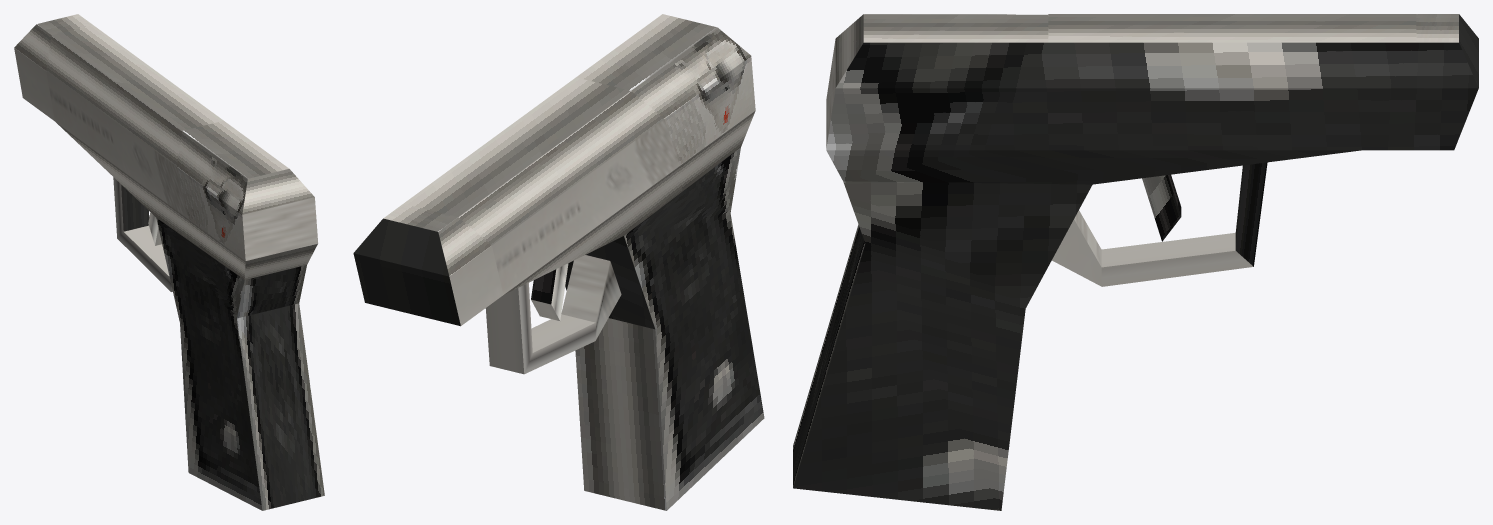
File: handgun.gltf
3 views of the same model, side by side, from view 1: azimuth 30°, elevation 25°; view 2: azimuth 150°, elevation 25°; view 3: azimuth 270°, elevation 25° (orthographic). The views are drawn at different scales.
Parts seen in each view (by area): view 1: Handgun; view 2: Handgun; view 3: Handgun.
Boxes of the visible parts, bbox=[...] form: Handgun: bbox=[14, 14, 324, 510]; Handgun: bbox=[353, 14, 764, 510]; Handgun: bbox=[793, 14, 1478, 510].
Bounding box in the file's own units: 39.94 × 172 × 232.
3 materials, 3 textured.
